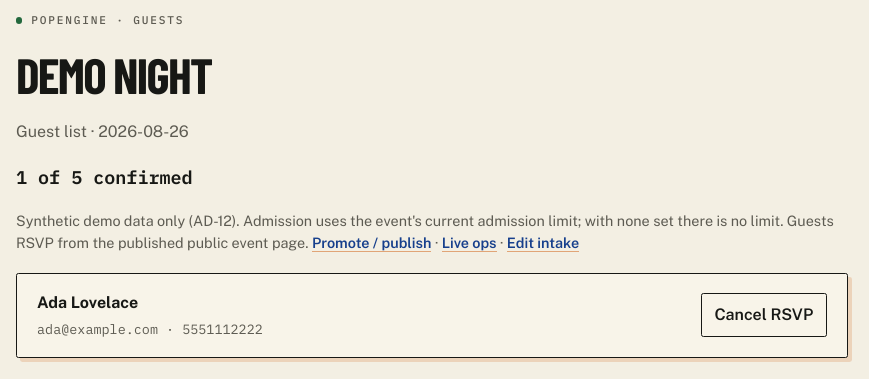
it: GuestListView › shows confirmed count vs capacity and can cancel an RSVP
The image size is (869, 379).
Expected: the text "1 of 5 confirmed" is shown, [16,165,193,189]
Expected: the text "Ada Lovelace" is shown, [37,293,138,312]
Click the button "Cancel RSVP": coordinates (764, 315) [701,293,827,337]
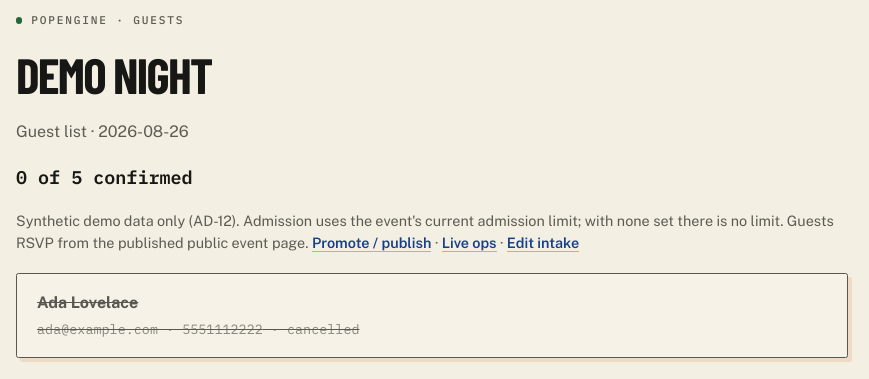
Now the text "0 of 5 confirmed" is shown, box [16,165,193,189]
Now the text "ada@example.com · 5551112222 · cancelled" is shown, box [37,319,360,339]
